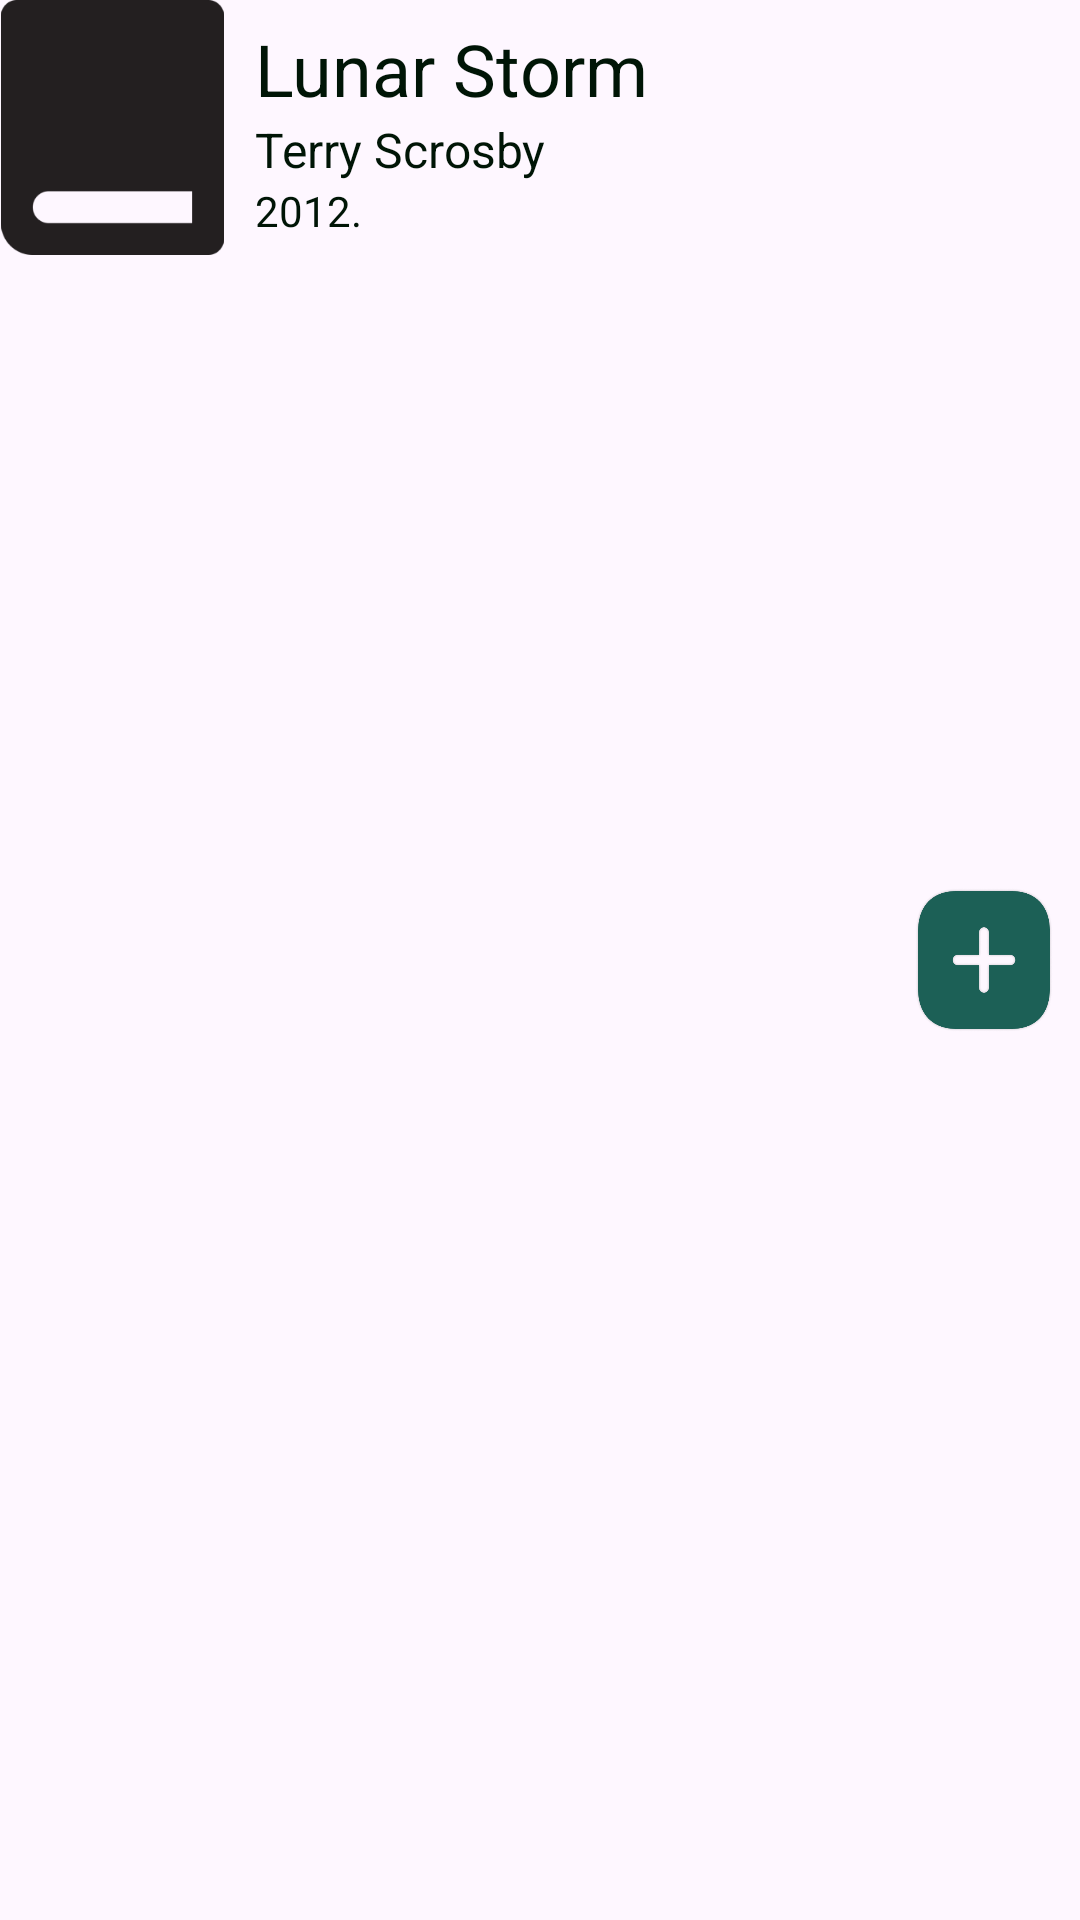

Screen size 1080×1920. Icon name, then its center in pixels as (x=x, y=y):
add: (x=984, y=960)
book: (x=112, y=127)
